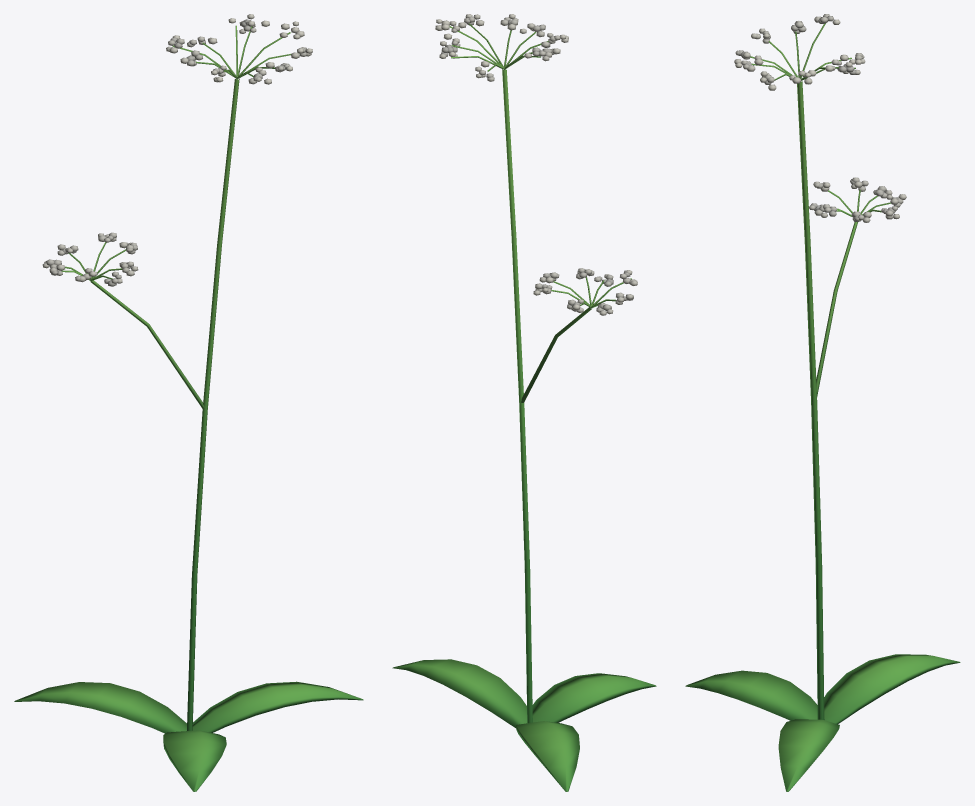
File: cow_parsley.glb
3 renders of one model, left to right at view 1: azimuth 30°, elevation 25°; view 2: azimuth 150°, elevation 25°; view 3: azimuth 270°, elevation 25°, orthographic. The views are drawn at different scales.
Parts seen in each view (by area): view 1: cow_parsley; view 2: cow_parsley; view 3: cow_parsley.
Boxes of the visible parts, <box> form: cow_parsley: <box>14,14,363,791</box>; cow_parsley: <box>392,14,656,791</box>; cow_parsley: <box>685,14,960,791</box>.
Size of the model in its own units: 0.1508 by 0.3616 by 0.1275.
